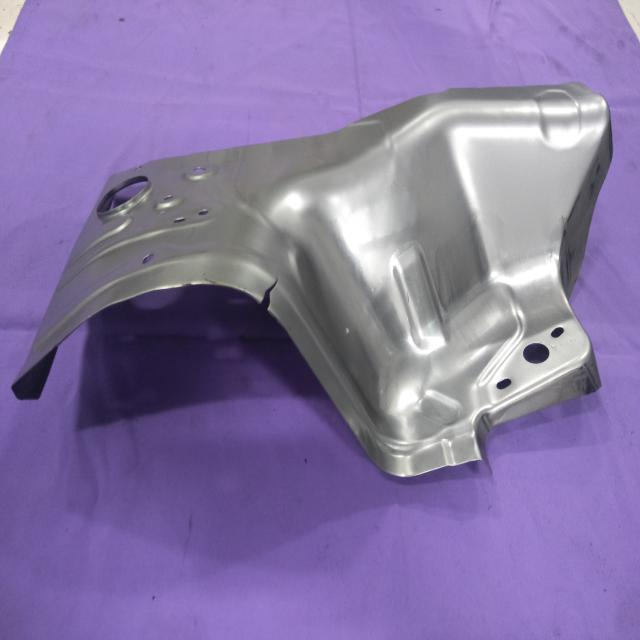Defect: (250, 272, 296, 318)
